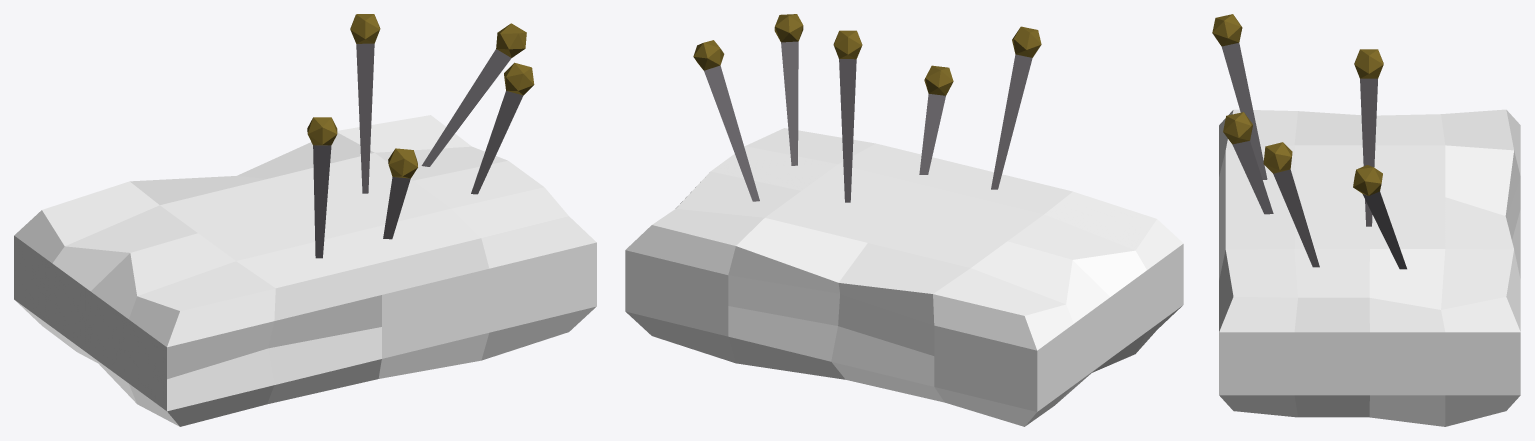
The model's file is neddlepillow01.obj.
3 renders of one model, left to right at view 1: azimuth 30°, elevation 25°; view 2: azimuth 150°, elevation 25°; view 3: azimuth 270°, elevation 25°, orthographic. The views are drawn at different scales.
Visible parts, largest first — view 1: Cube; view 2: Cube; view 3: Cube.
Boxes of the visible parts, <box> form: Cube: <box>14,14,596,426</box>; Cube: <box>625,14,1183,426</box>; Cube: <box>1212,14,1520,426</box>.
Size of the model in its own units: 0.0539 by 0.0361 by 0.0336.
